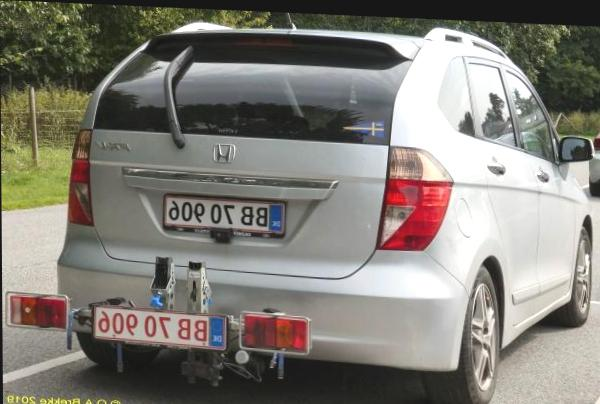License_Plate: (89, 304, 232, 351), (159, 190, 290, 241)
